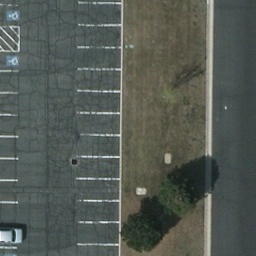car: (0, 227, 23, 244)
